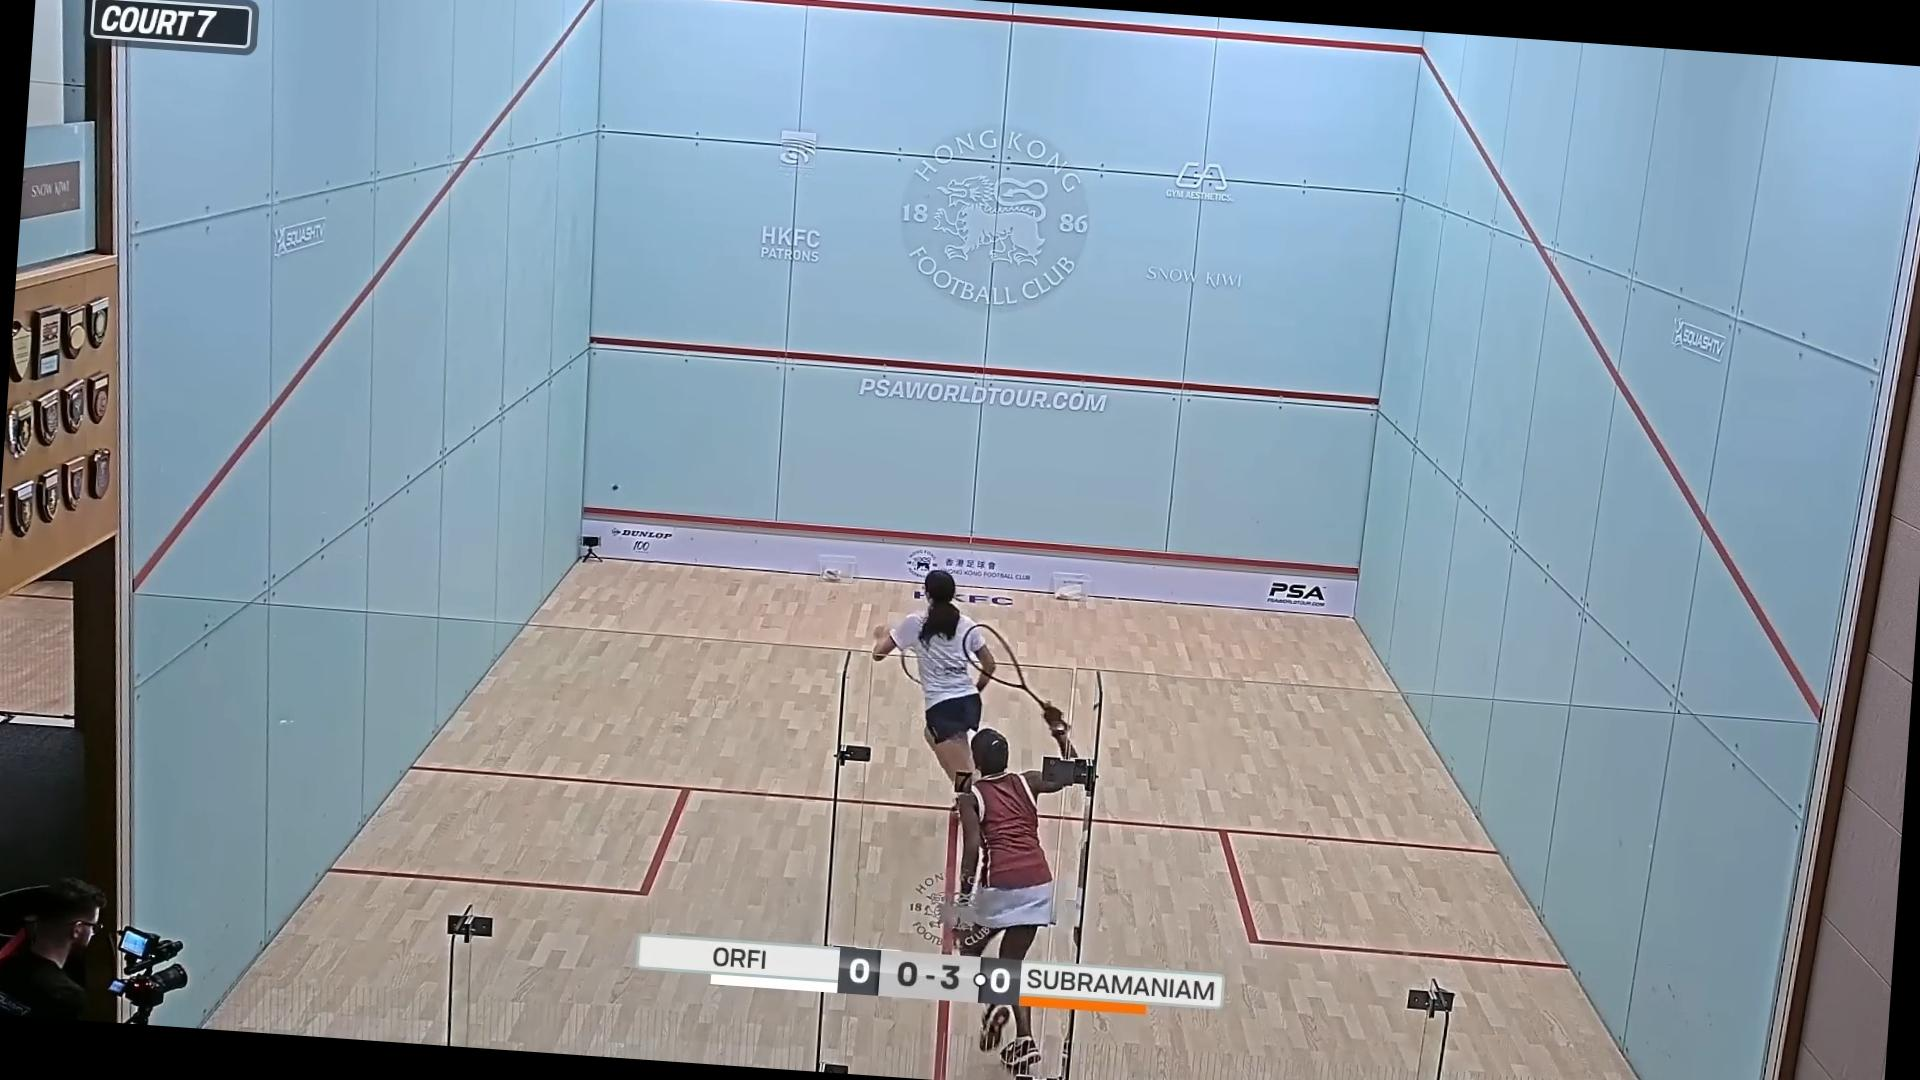Squash-Ball: (600, 473, 633, 505)
